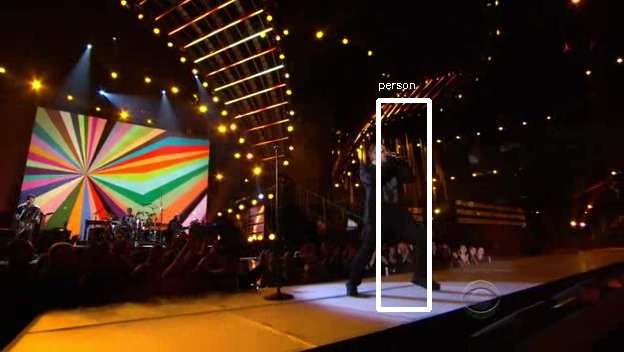person: (356, 139, 417, 248), (353, 139, 414, 248), (359, 139, 420, 248), (356, 136, 417, 245), (356, 142, 417, 251)
target_negative: (44, 222, 516, 294), (528, 52, 621, 180), (112, 196, 185, 337), (182, 217, 594, 232), (129, 261, 199, 331), (45, 342, 339, 351)
